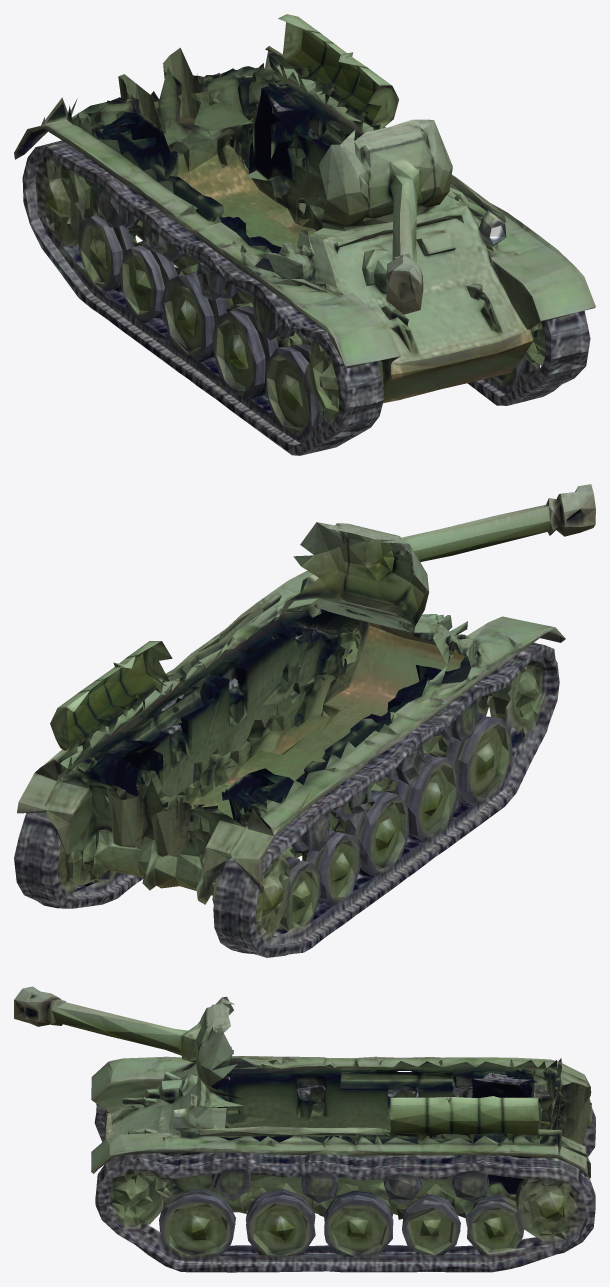
File: is2_hull.obj
3 renders of one model, top to bottom at view 1: azimuth 30°, elevation 25°; view 2: azimuth 150°, elevation 25°; view 3: azimuth 270°, elevation 25°, orthographic. The views are drawn at different scales.
Parts seen in each view (by area): view 1: is2_hull; view 2: is2_hull; view 3: is2_hull.
Part boxes in pixels (bbox=[...]): is2_hull: bbox=[14, 14, 595, 455]; is2_hull: bbox=[14, 484, 595, 957]; is2_hull: bbox=[14, 986, 595, 1272].
Size of the model in its own units: 2.69 by 2.75 by 6.78.
Materials: 1 (1 with a texture image).
